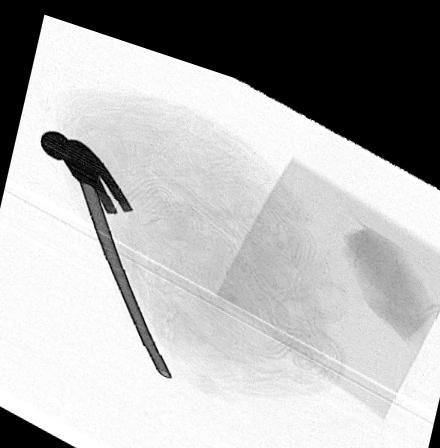Hammer: (38, 125, 171, 367)
